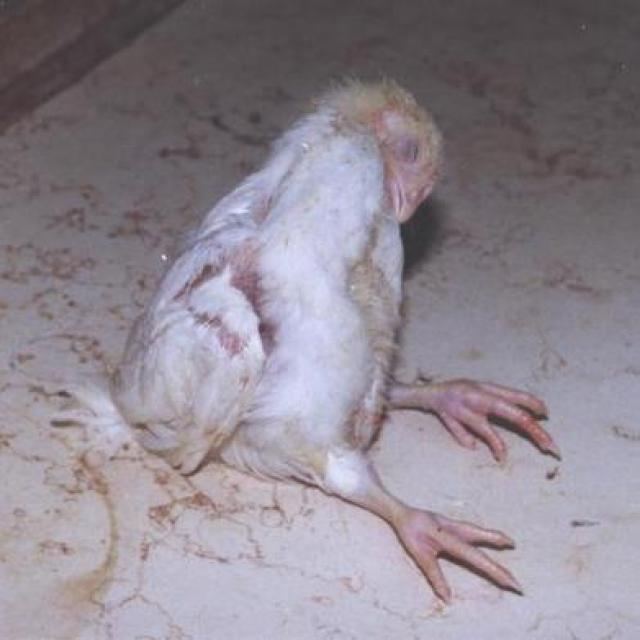Unhealthy: (121, 58, 573, 607)
